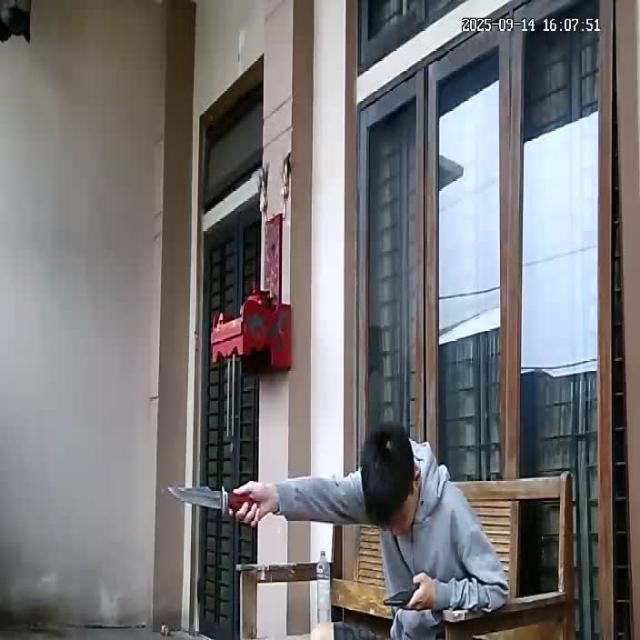senjata_tajam: (166, 481, 238, 518)
